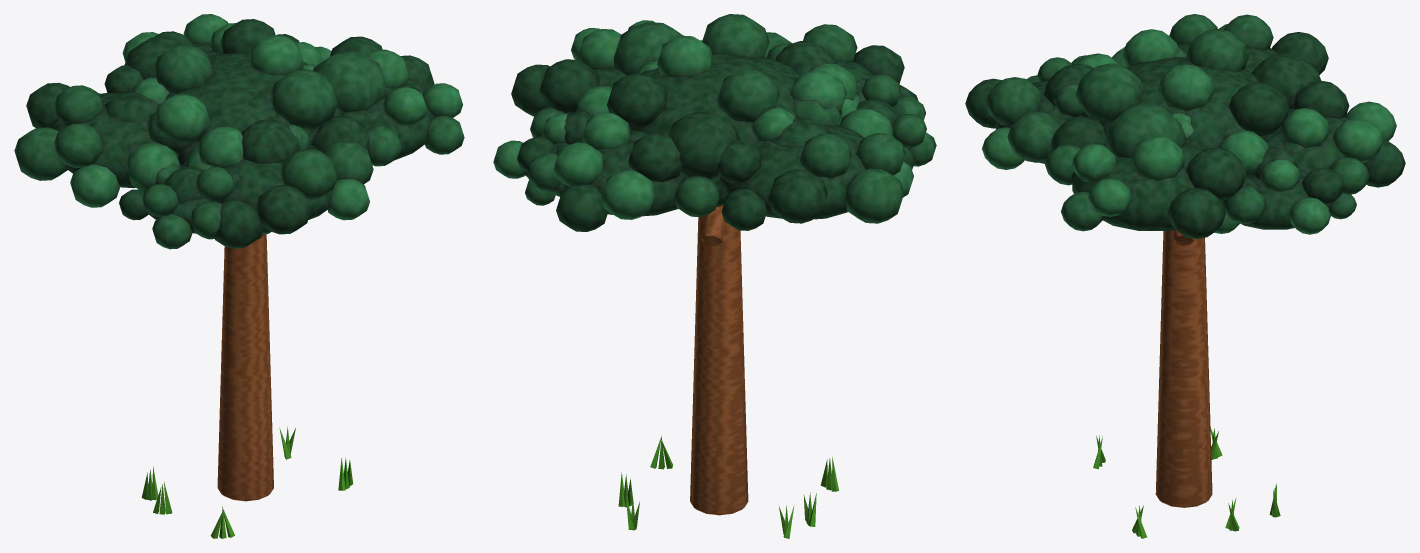
Rendered from pine_nut_tree.glb.
3 renders of one model, left to right at view 1: azimuth 30°, elevation 25°; view 2: azimuth 150°, elevation 25°; view 3: azimuth 270°, elevation 25°, orthographic. The views are drawn at different scales.
Parts seen in each view (by area): view 1: crown, pine_nut_tree; view 2: crown, pine_nut_tree; view 3: crown, pine_nut_tree.
Part boxes in pixels (box(x1,y1,x2,y2)): crown: box(14, 14, 464, 249); pine_nut_tree: box(141, 234, 353, 538); crown: box(493, 14, 936, 231); pine_nut_tree: box(618, 205, 838, 538); crown: box(965, 14, 1405, 238); pine_nut_tree: box(1093, 229, 1280, 538).
Bounding box in the file's own units: 1.21 × 1.3 × 1.16.
1 material, 1 textured.
